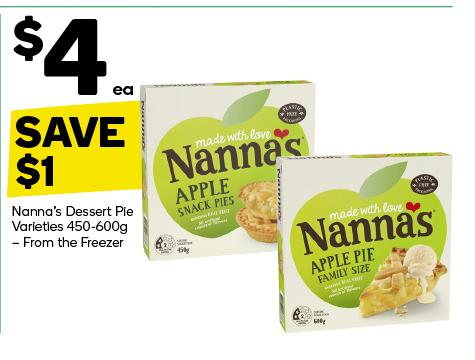description_block: (5, 201, 138, 257)
price_main: (6, 9, 138, 100)
product_image_block: (141, 66, 461, 338)
promo_text_block: (0, 104, 145, 196)
